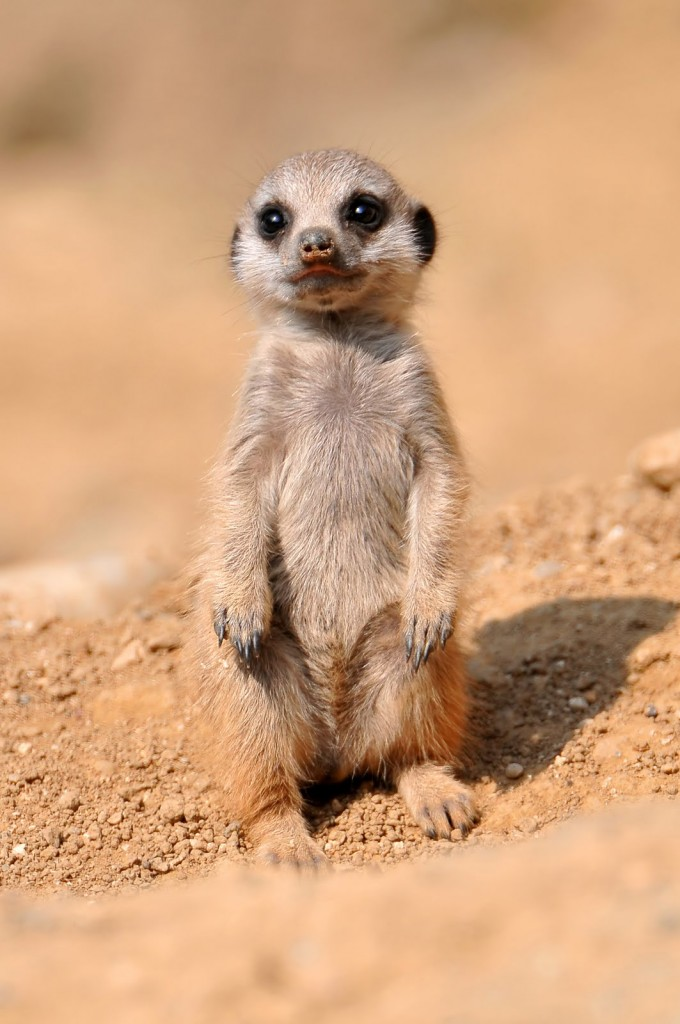meerkat: (186, 134, 512, 874)
